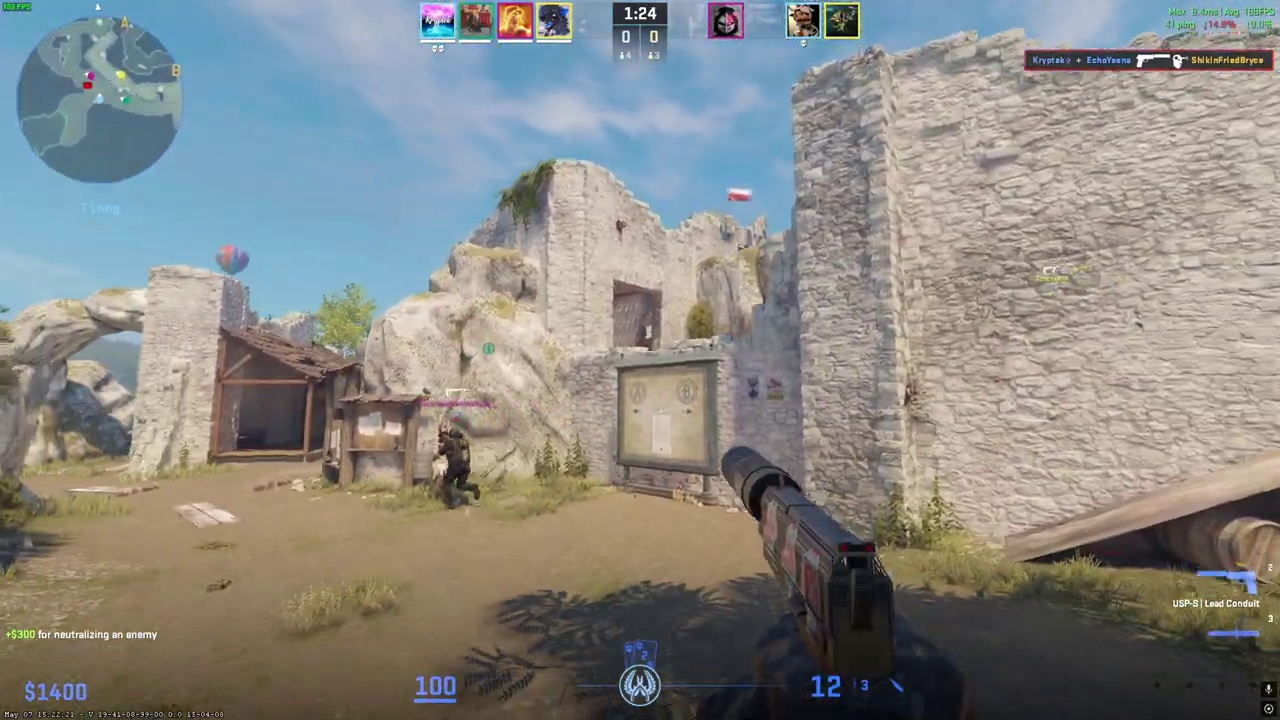CT: (433, 426, 479, 508)
